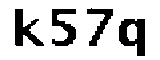5: (49, 6, 79, 48)
7: (84, 6, 115, 49)
k: (10, 6, 46, 50)
q: (117, 17, 150, 60)
